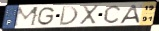A: (118, 4, 141, 25)
C: (103, 5, 122, 24)
D: (58, 5, 80, 26)
G: (36, 6, 56, 27)
M: (12, 6, 41, 28)
X: (79, 5, 101, 26)
